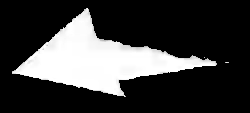Plane: (5, 4, 242, 102)
